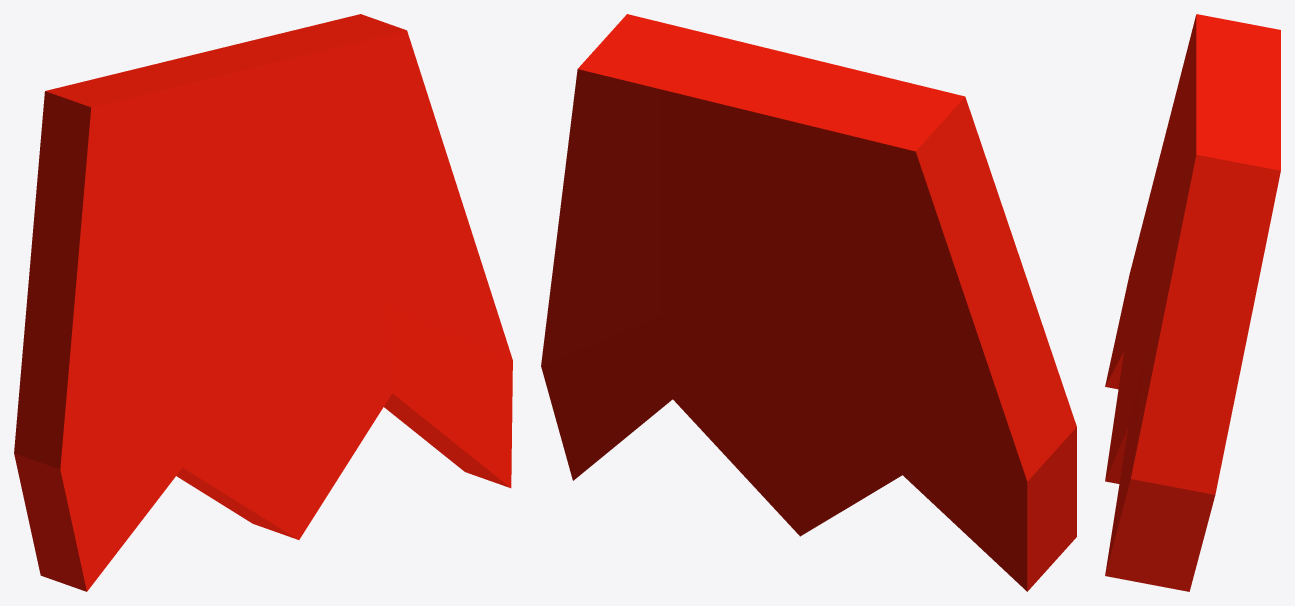
File: wing.obj
3 renders of one model, left to right at view 1: azimuth 30°, elevation 25°; view 2: azimuth 150°, elevation 25°; view 3: azimuth 270°, elevation 25°, orthographic. The views are drawn at different scales.
Parts seen in each view (by area): view 1: Cube_Cube.001; view 2: Cube_Cube.001; view 3: Cube_Cube.001.
Boxes of the visible parts, <box> form: Cube_Cube.001: <box>14,14,512,591</box>; Cube_Cube.001: <box>541,14,1076,591</box>; Cube_Cube.001: <box>1105,14,1280,591</box>.
Size of the model in its own units: 0.4144 by 0.395 by 0.1525.
